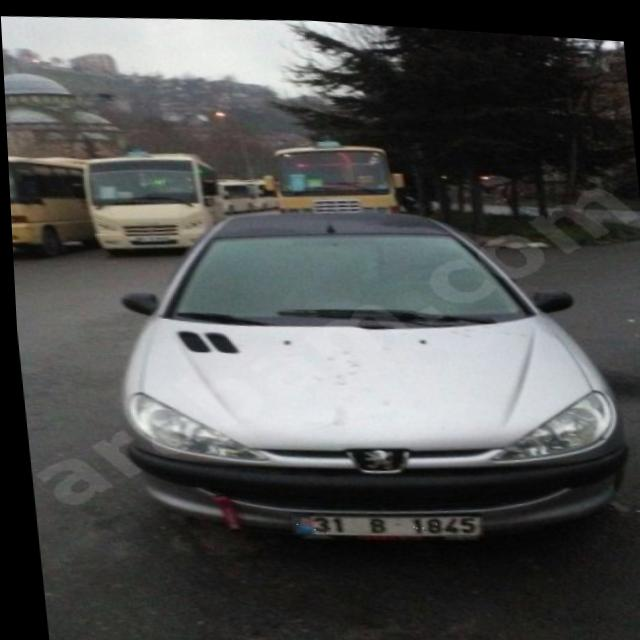license_plate: (285, 500, 480, 541)
